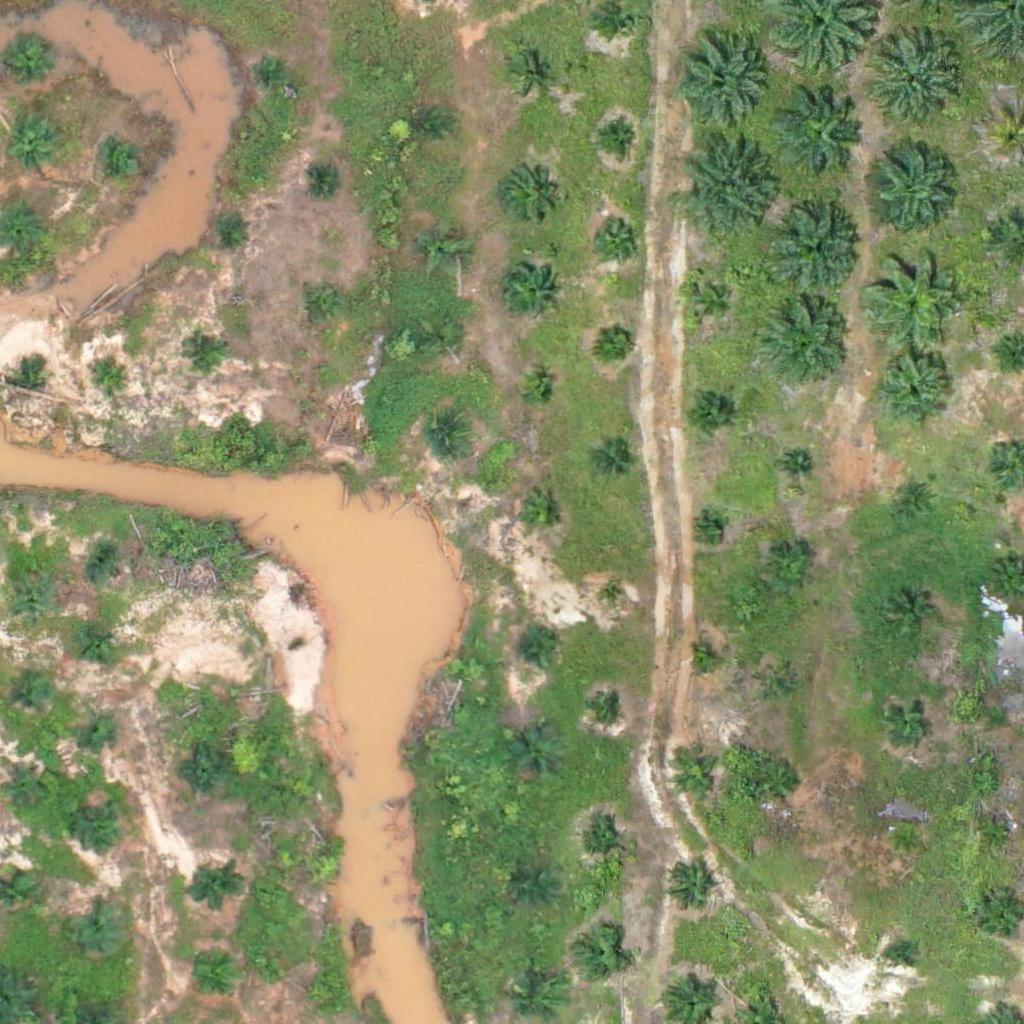Kelapa_Sawit: (673, 36, 773, 137), (863, 246, 963, 347), (681, 138, 781, 239), (876, 40, 964, 129), (870, 347, 958, 435), (761, 296, 849, 384), (773, 204, 861, 292), (780, 91, 868, 179), (870, 136, 957, 224), (69, 902, 132, 965), (500, 262, 562, 325), (4, 36, 54, 87), (757, 756, 807, 807), (503, 165, 553, 216), (670, 750, 720, 801), (516, 489, 566, 540), (419, 222, 469, 273), (77, 800, 127, 850), (9, 120, 59, 170), (578, 821, 628, 871), (576, 930, 626, 980), (665, 863, 715, 913), (190, 864, 240, 914), (188, 954, 238, 1004), (885, 696, 935, 746), (885, 589, 935, 639), (892, 475, 942, 525), (765, 545, 815, 595), (684, 385, 734, 435), (512, 729, 562, 779), (181, 749, 231, 799), (687, 276, 737, 326), (592, 212, 642, 262), (299, 973, 337, 1011), (305, 848, 343, 886), (516, 630, 554, 668), (409, 107, 447, 145), (603, 1, 641, 39), (83, 708, 121, 746), (83, 621, 121, 659), (82, 546, 120, 584), (102, 144, 139, 182), (886, 822, 924, 859), (760, 667, 798, 704), (519, 374, 557, 411), (516, 868, 553, 906), (597, 118, 634, 156), (515, 51, 552, 89), (309, 162, 347, 199), (185, 337, 222, 375), (426, 320, 464, 357), (599, 322, 636, 360), (89, 361, 126, 399), (11, 583, 48, 621), (16, 675, 53, 713), (6, 771, 43, 809), (979, 816, 1016, 854), (595, 446, 632, 483), (427, 418, 464, 455), (207, 210, 244, 247), (304, 288, 341, 325), (255, 53, 292, 90), (12, 367, 37, 393), (888, 943, 913, 968), (696, 516, 721, 541), (689, 646, 714, 671), (601, 585, 626, 610), (595, 697, 620, 722), (784, 452, 808, 477)
